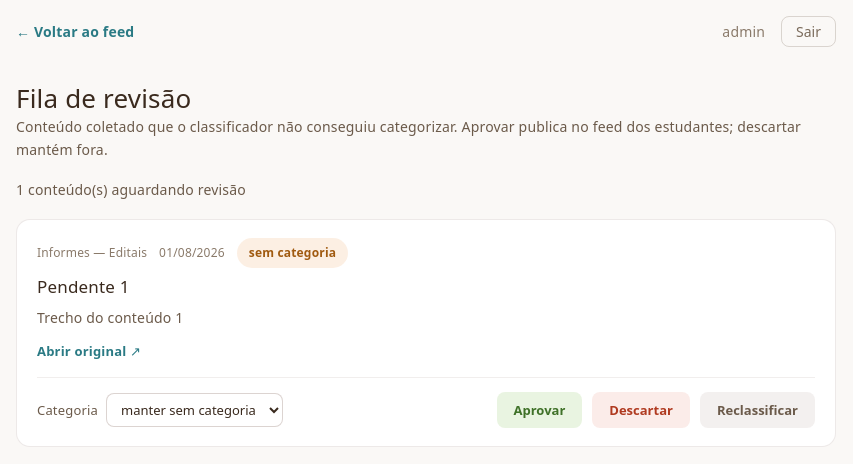
it: Revisão — ações › descarta o conteúdo e o remove da lista
Expected: the heading "Pendente 1" is shown, [37,275,130,298]
Click the button "Descartar": [641, 410] box [592,392,690,428]
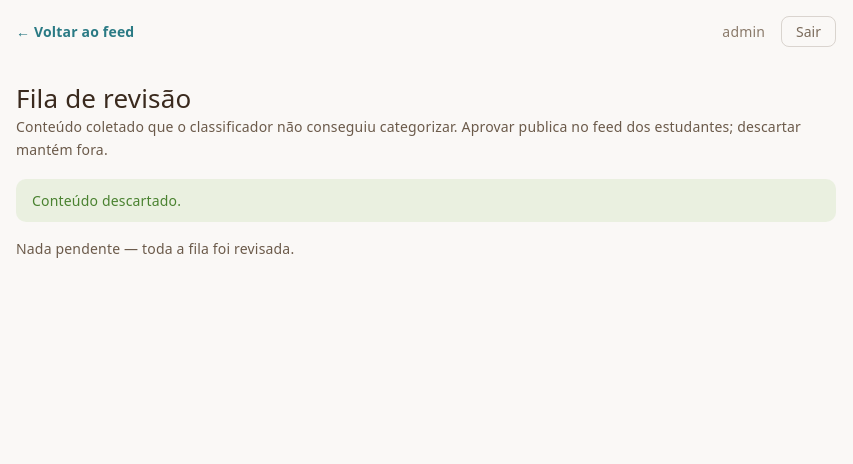
Expected: the heading "Pendente 1" is gone
